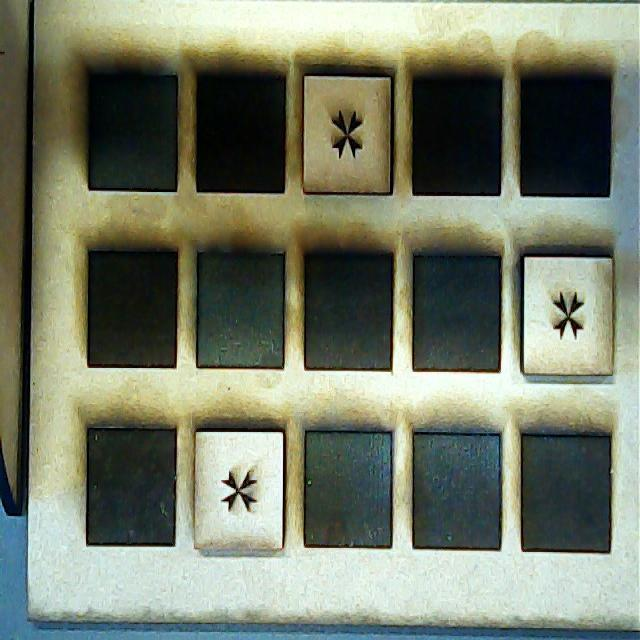maltese: (302, 73, 398, 196), (522, 254, 617, 376), (194, 428, 286, 548)
